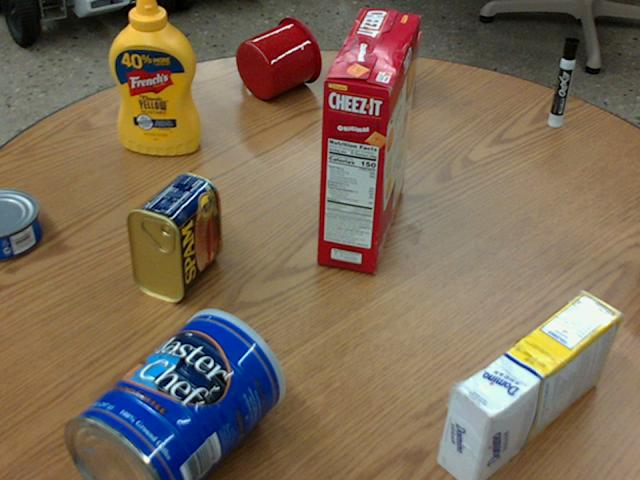cracker_box: (316, 9, 416, 272)
gelatin_box: (390, 30, 421, 109)
large_marker: (547, 36, 577, 126)
master_chef_can: (65, 309, 283, 479)
mug: (234, 16, 320, 99)
mustard_bottle: (108, 0, 199, 154)
potted_meat_can: (124, 171, 218, 302)
sugar_box: (436, 290, 619, 479)
tuna_fish_can: (0, 188, 42, 259)
